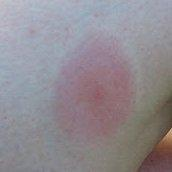Mosquito: (56, 40, 132, 138)
